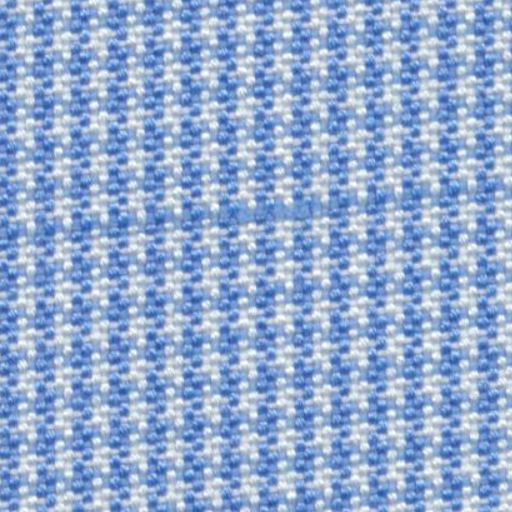TuoSha: (28, 168, 489, 262)
